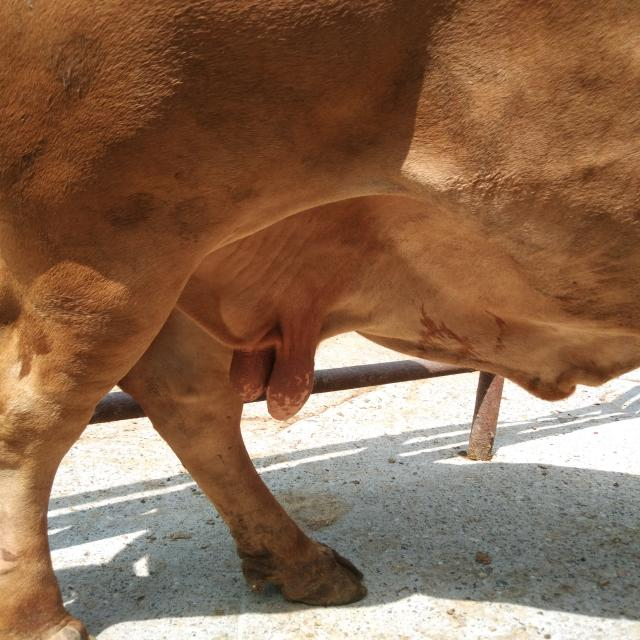Hoof: (240, 540, 368, 607)
